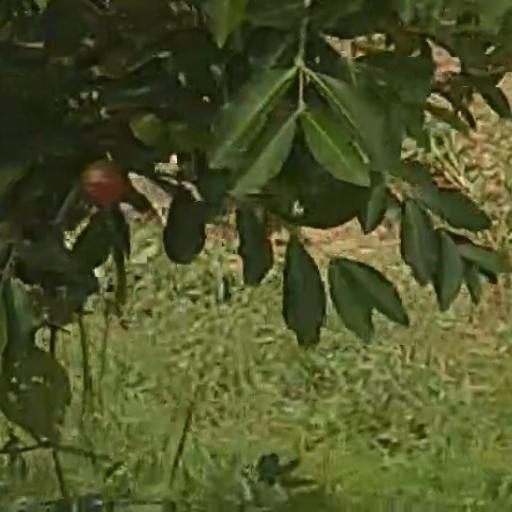acerola_vermelha: (83, 167, 125, 205)
